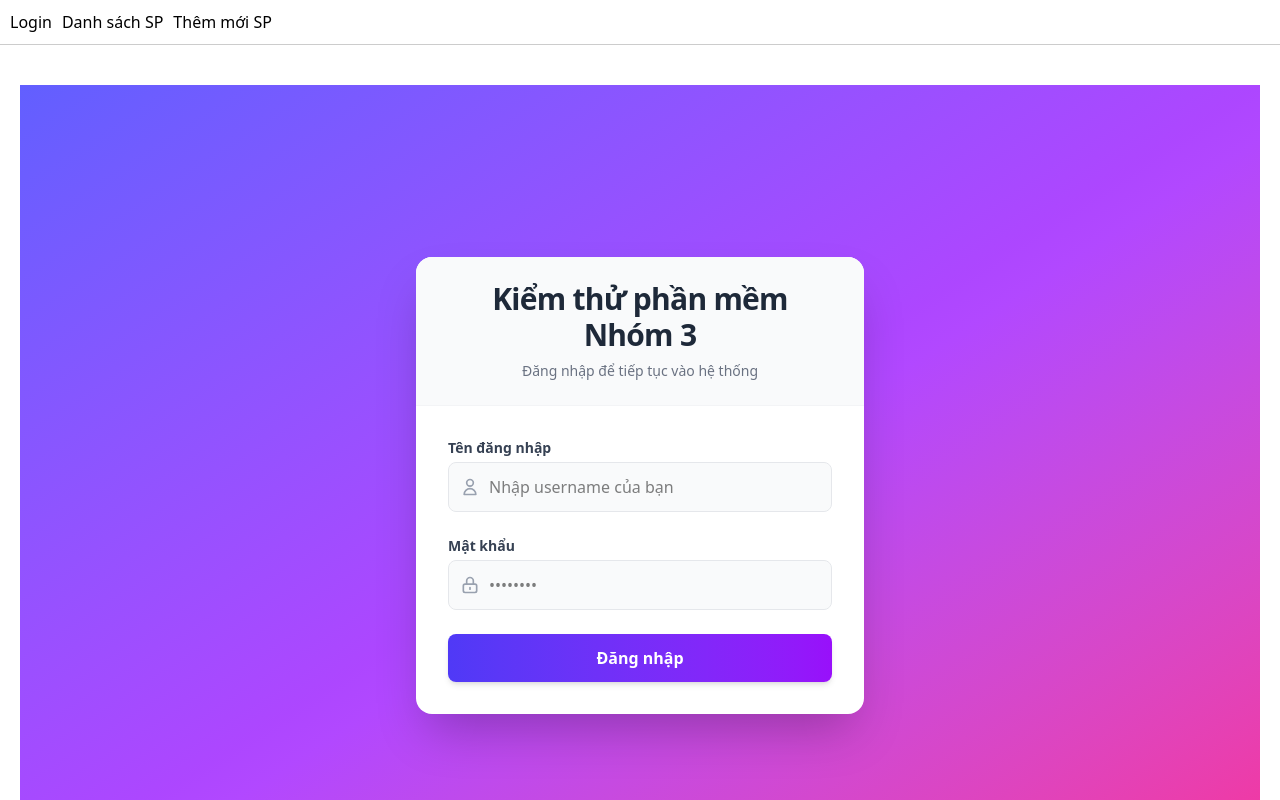
Test case: Login Mocking (meets 5.1.1) › Mock: Login thất bại (stub /api/login with error, verify request & response)
This screenshot has width=1280, height=800.
In the field with test id "username-input": [640, 487] box [448,462,832,512], type "testuser"
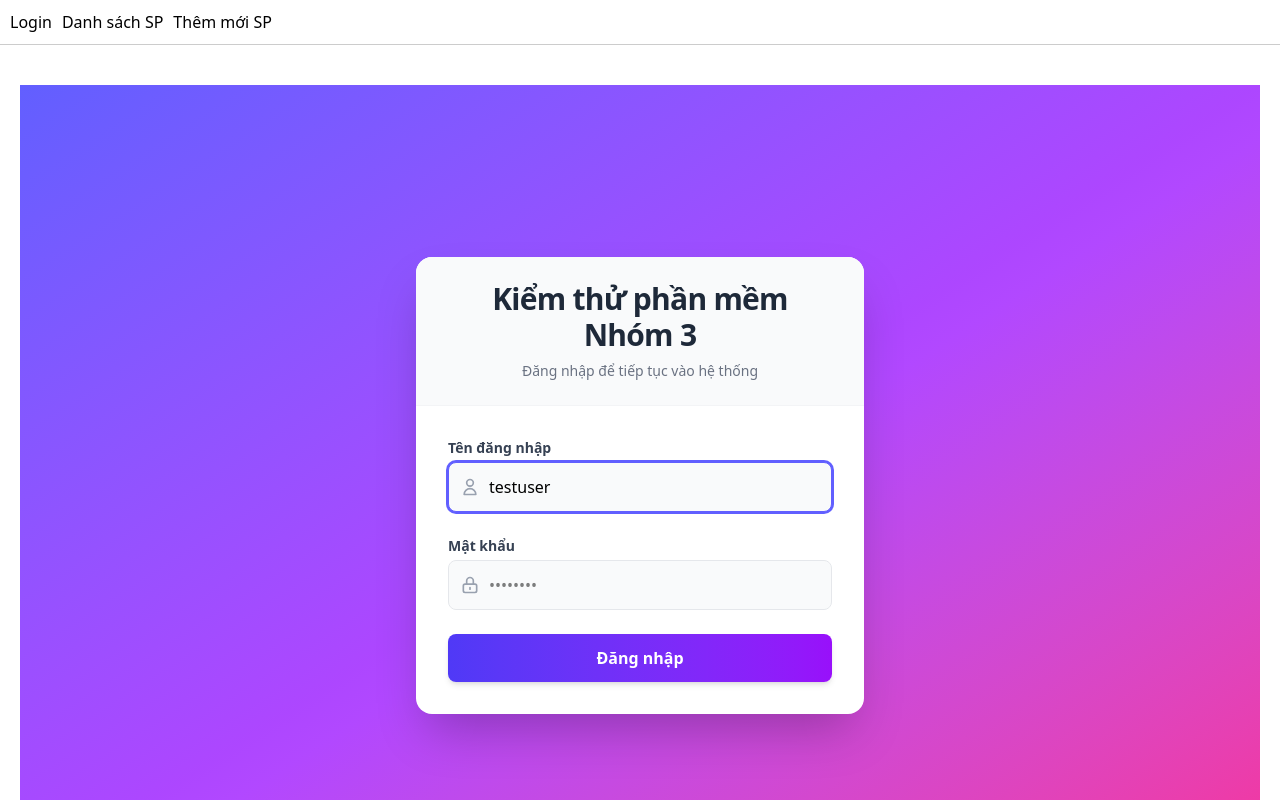
In the password field with test id "password-input": [640, 585] box [448,560,832,610], type "wrongpass"
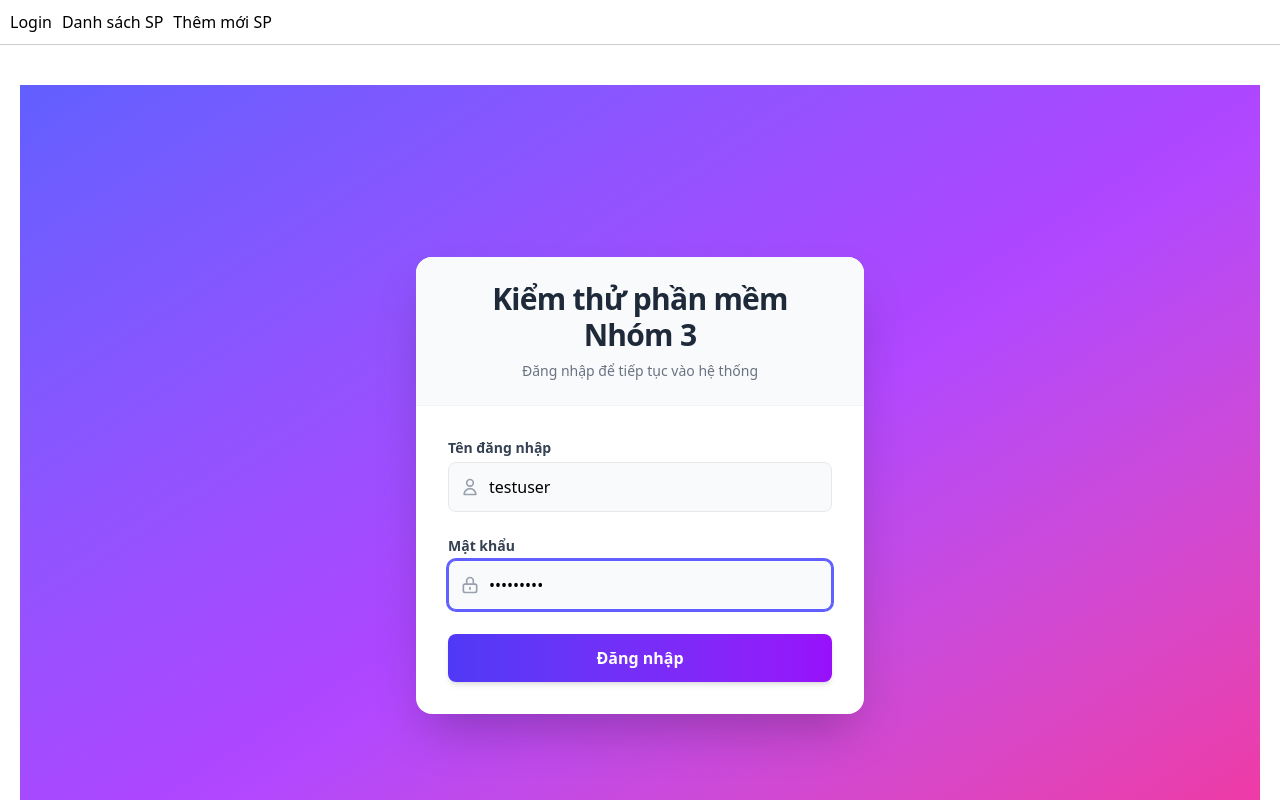
Click the button with test id "login-button": [640, 658] box [448,634,832,682]
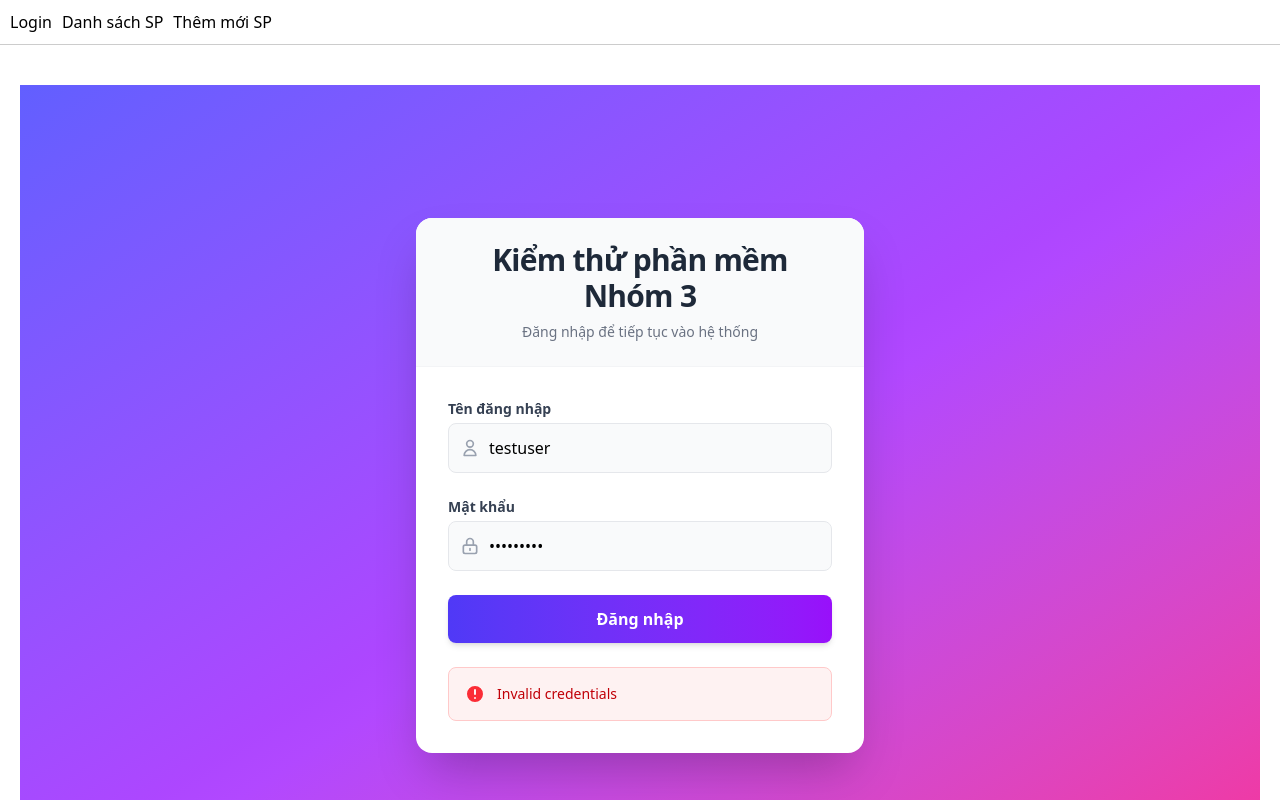
Expected: the text with test id "login-message" reads "Invalid credentials", [497,684,617,703]
